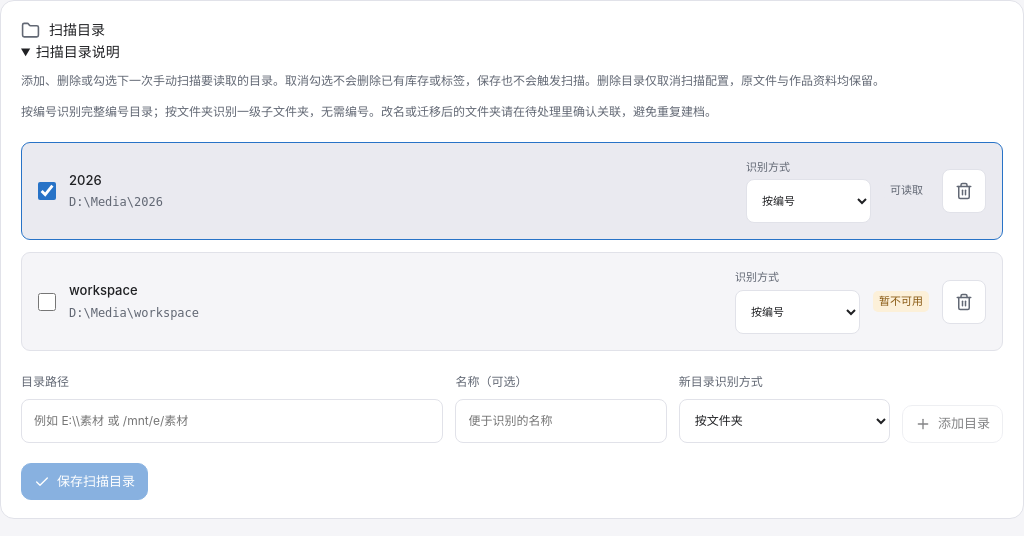
Test: persisted scan directory selection › uses server enabled flags and does not save or scan until the save button is clicked
This screenshot has width=1024, height=536.
Expected: the checkbox named "扫描 2026" is checked, [38,182,56,200]
Expected: the button "保存扫描目录" is disabled, [21,463,148,500]
What coordinates should you click on to do the following:
click the checkbox named "扫描 workspace"
I would click on:
 (47, 302)
Its box is [38,293,56,311].
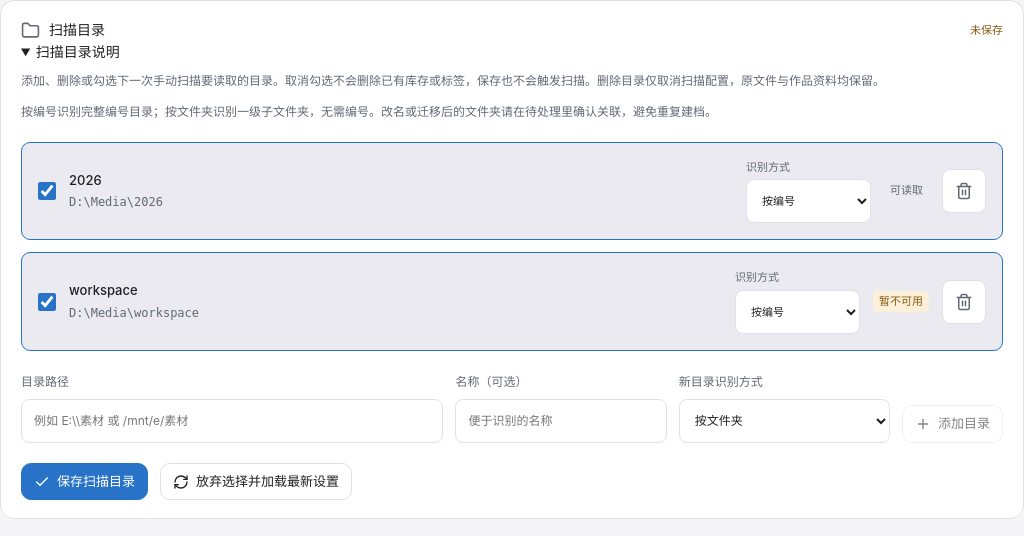
Expected: the text "取消勾选不会删除已有库存或标签，保存也不会触发扫描" is shown, [21,73,885,88]
Result: the button "保存扫描目录" is enabled at [21,463,148,500]
